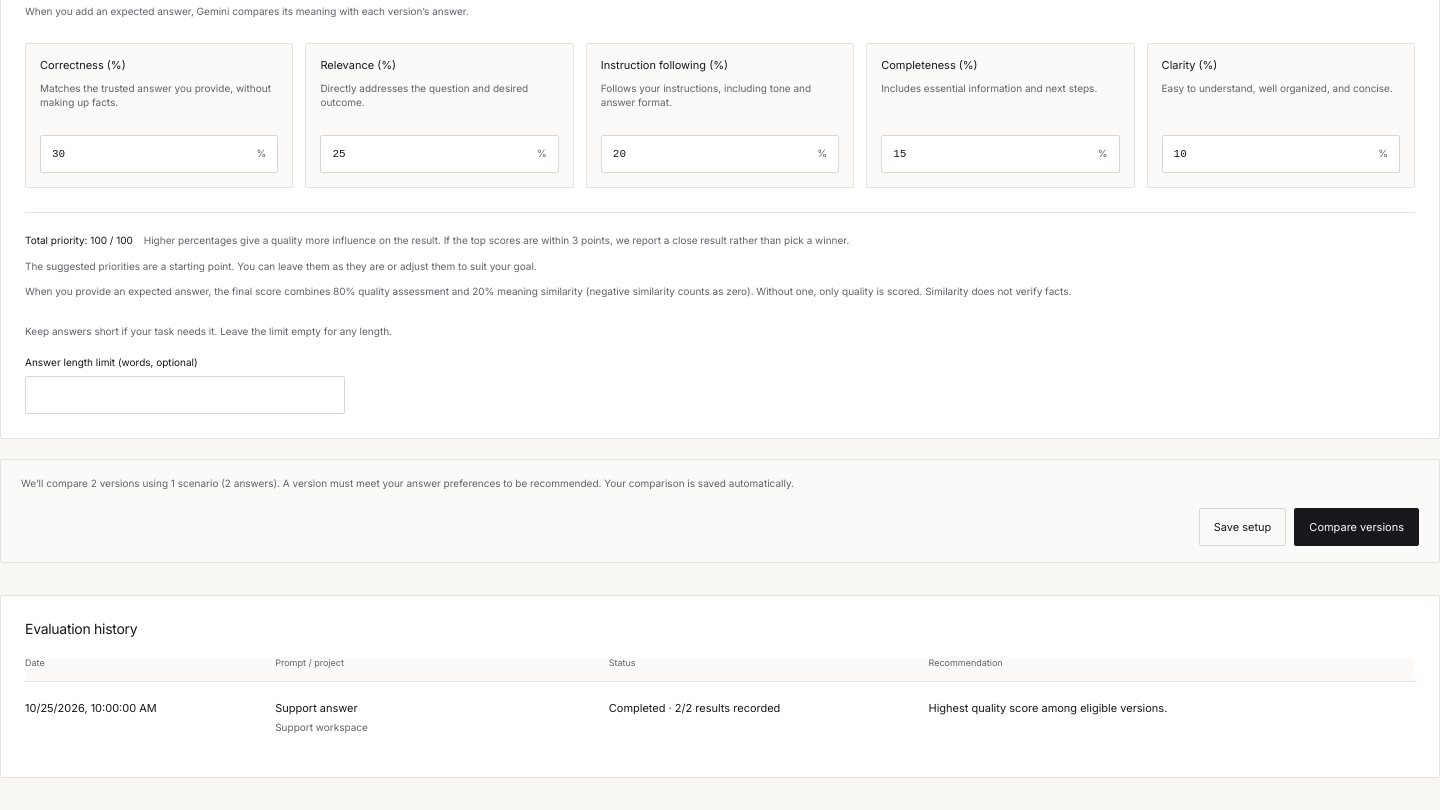
Test: Prompt version evaluations › shows saved example inputs and reference after opening a history run
(page scrolled)
Expected: the column heading "Prompt / project" is shown, [275, 657, 609, 681]
Expected: the text "Support answer" is shown, [275, 701, 358, 715]
Click the button "Highest quality score among eligible versions.".
click(1164, 708)  # box [928, 700, 1399, 716]
(page scrolled)
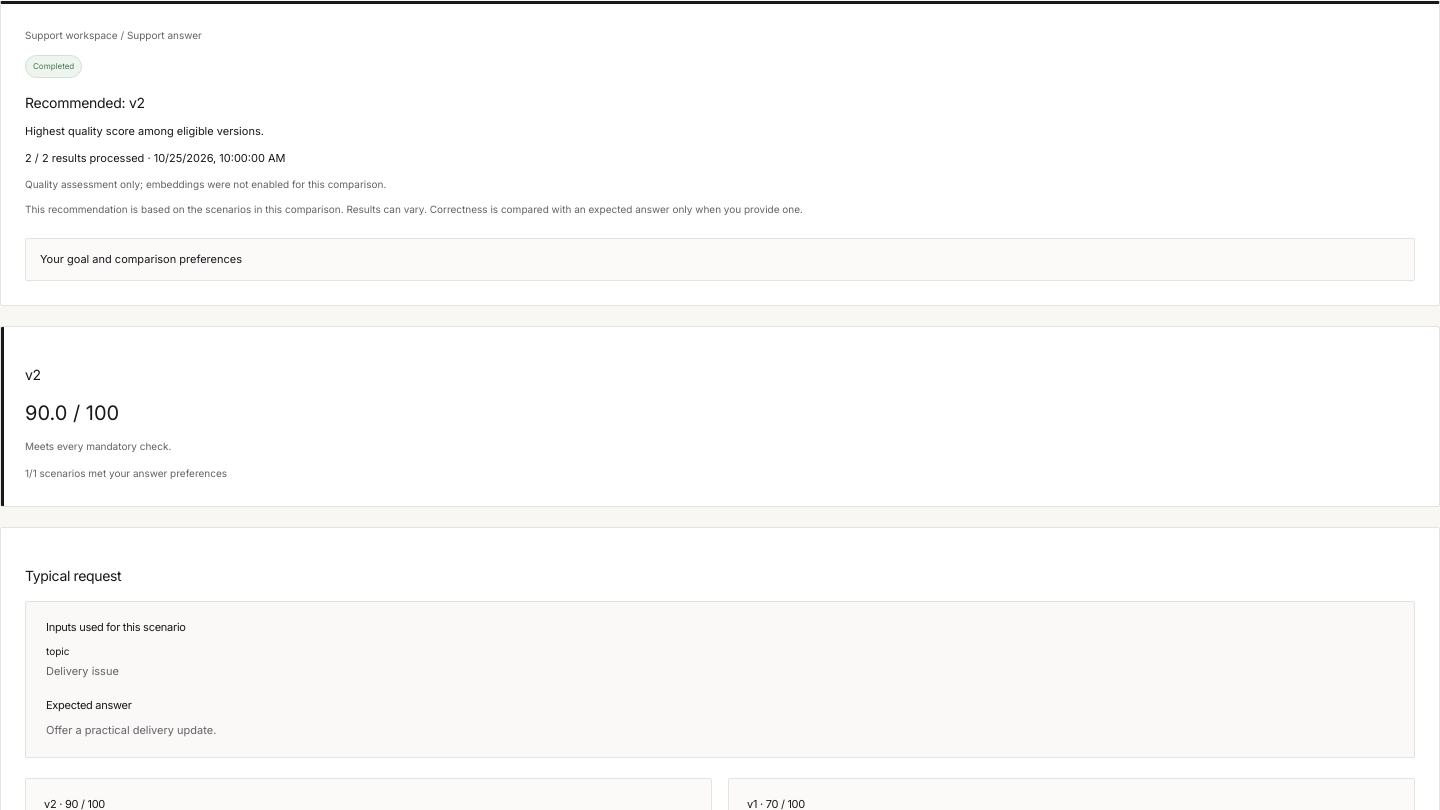
Expected: the text "Support workspace / Support answer" is shown, [25, 29, 202, 41]
Expected: the text "Delivery issue" is shown, [46, 664, 119, 678]
Expected: the text "Offer a practical delivery update." is shown, [46, 723, 216, 737]
